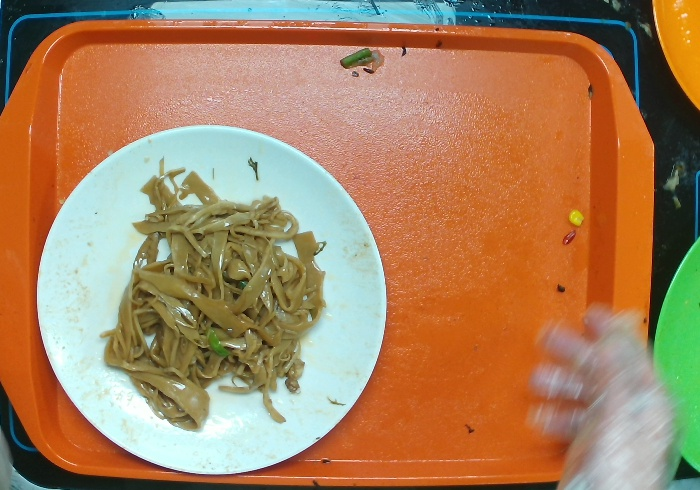HZYJPL-Bai_Se_Yuan_Pan: (31, 118, 394, 480)
